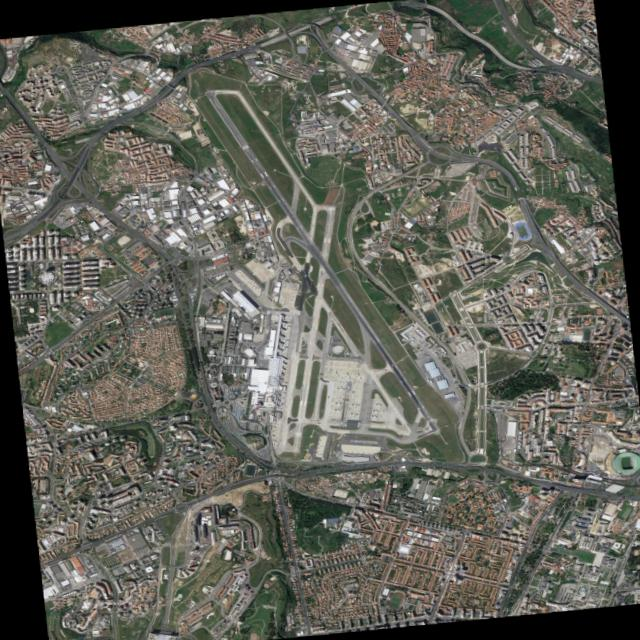plane: (341, 370, 351, 379), (352, 371, 361, 380), (348, 401, 359, 408), (330, 370, 340, 377), (335, 384, 343, 392), (333, 399, 342, 406), (348, 410, 357, 417), (332, 406, 340, 412), (371, 407, 378, 413), (374, 401, 381, 406), (369, 414, 377, 418)
